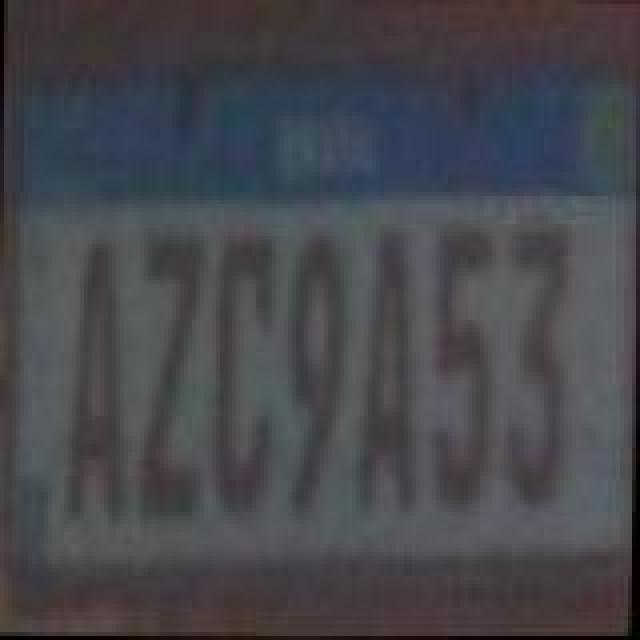3: (504, 222, 572, 514)
5: (428, 222, 496, 514)
9: (286, 228, 350, 520)
A: (66, 242, 134, 534), (358, 230, 422, 522)
C: (212, 222, 280, 522)
Z: (136, 238, 208, 522)
